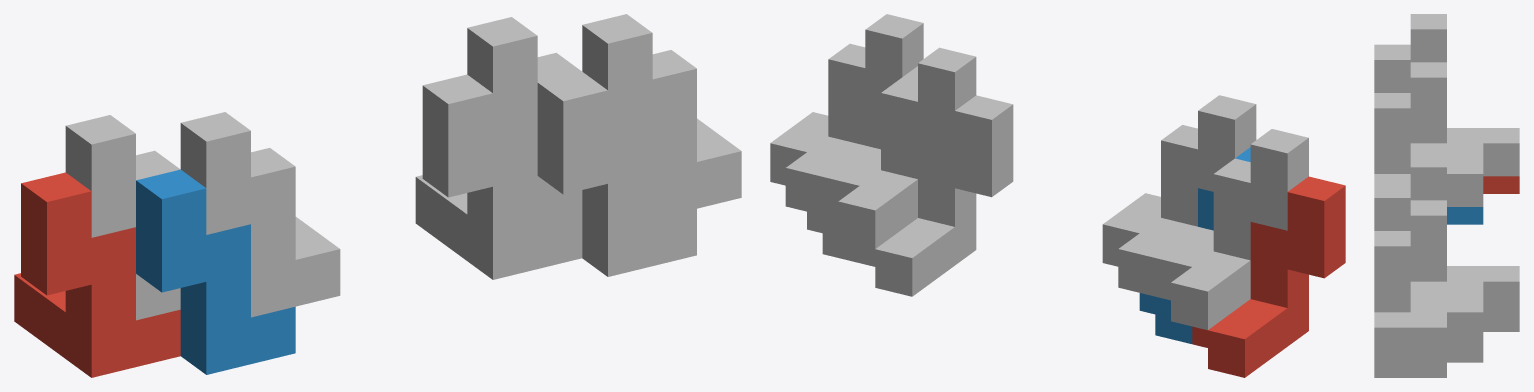
File: tiling.obj
3 renders of one model, left to right at view 1: azimuth 30°, elevation 25°; view 2: azimuth 150°, elevation 25°; view 3: azimuth 270°, elevation 25°, orthographic. The views are drawn at different scales.
Parts seen in each view (by area): view 1: copy_1_domain_5, copy_1_domain_1, copy_1_domain_6, copy_1_domain_2, copy_1_domain_4, copy_1_domain_8, copy_1_domain_7, copy_1_domain_3; view 2: copy_1_domain_3, copy_1_domain_7, copy_1_domain_5, copy_1_domain_1, copy_1_domain_4, copy_1_domain_8, copy_1_domain_2, copy_1_domain_6; view 3: copy_1_domain_8, copy_1_domain_7, copy_1_domain_3, copy_1_domain_4, copy_1_domain_6, copy_1_domain_1, copy_1_domain_2, copy_1_domain_5.
Boxes of the visible parts, x1=… form: copy_1_domain_5: x1=415, y1=74, x2=582, y2=279; copy_1_domain_1: x1=14, y1=172, x2=180, y2=377; copy_1_domain_6: x1=537, y1=71, x2=696, y2=276; copy_1_domain_2: x1=136, y1=169, x2=295, y2=374; copy_1_domain_4: x1=180, y1=112, x2=340, y2=317; copy_1_domain_8: x1=582, y1=14, x2=741, y2=219; copy_1_domain_7: x1=467, y1=17, x2=582, y2=222; copy_1_domain_3: x1=65, y1=115, x2=180, y2=320; copy_1_domain_3: x1=1155, y1=129, x2=1308, y2=330; copy_1_domain_7: x1=822, y1=47, x2=976, y2=248; copy_1_domain_5: x1=859, y1=95, x2=1013, y2=296; copy_1_domain_1: x1=1192, y1=176, x2=1345, y2=377; copy_1_domain_4: x1=1102, y1=95, x2=1256, y2=296; copy_1_domain_8: x1=770, y1=14, x2=923, y2=215; copy_1_domain_2: x1=1139, y1=147, x2=1250, y2=343; copy_1_domain_6: x1=807, y1=66, x2=917, y2=262; copy_1_domain_8: x1=1374, y1=182, x2=1483, y2=360; copy_1_domain_7: x1=1410, y1=152, x2=1519, y2=314; copy_1_domain_3: x1=1410, y1=14, x2=1519, y2=176; copy_1_domain_4: x1=1374, y1=44, x2=1483, y2=206; copy_1_domain_6: x1=1374, y1=345, x2=1483, y2=377; copy_1_domain_1: x1=1483, y1=176, x2=1519, y2=193; copy_1_domain_2: x1=1447, y1=207, x2=1483, y2=224; copy_1_domain_5: x1=1483, y1=314, x2=1519, y2=331.
Size of the model in its own units: 15 by 5 by 4.
